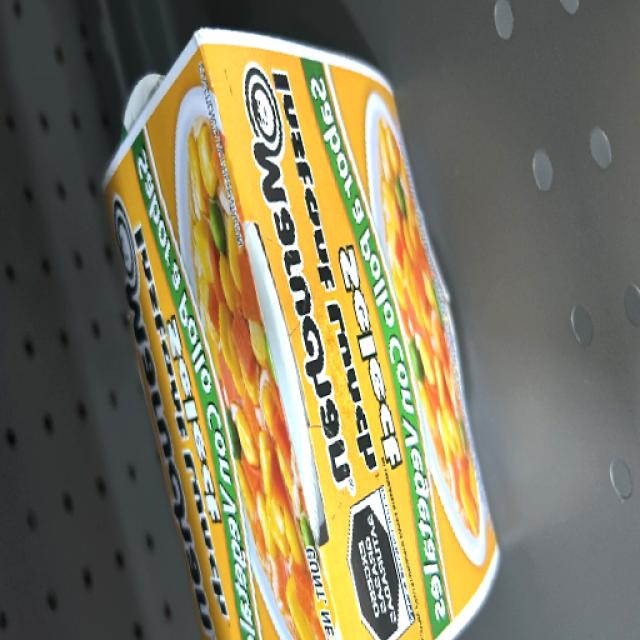maruchanPollo: (115, 50, 444, 622)
